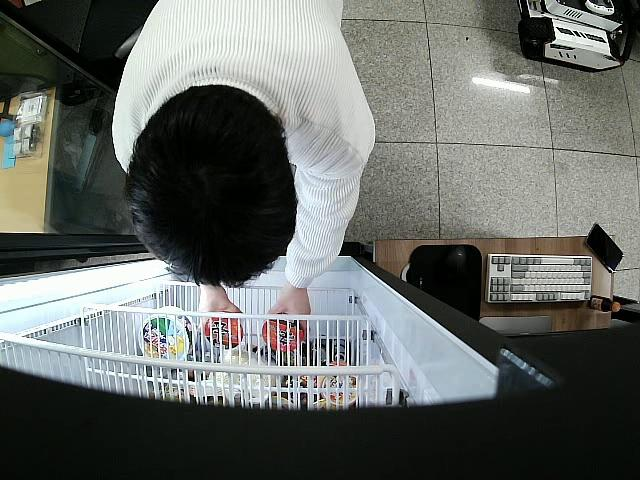00_hand: (266, 289, 311, 335), (198, 289, 244, 333)
02_shinRamen_S: (262, 314, 303, 353), (204, 313, 244, 350)
